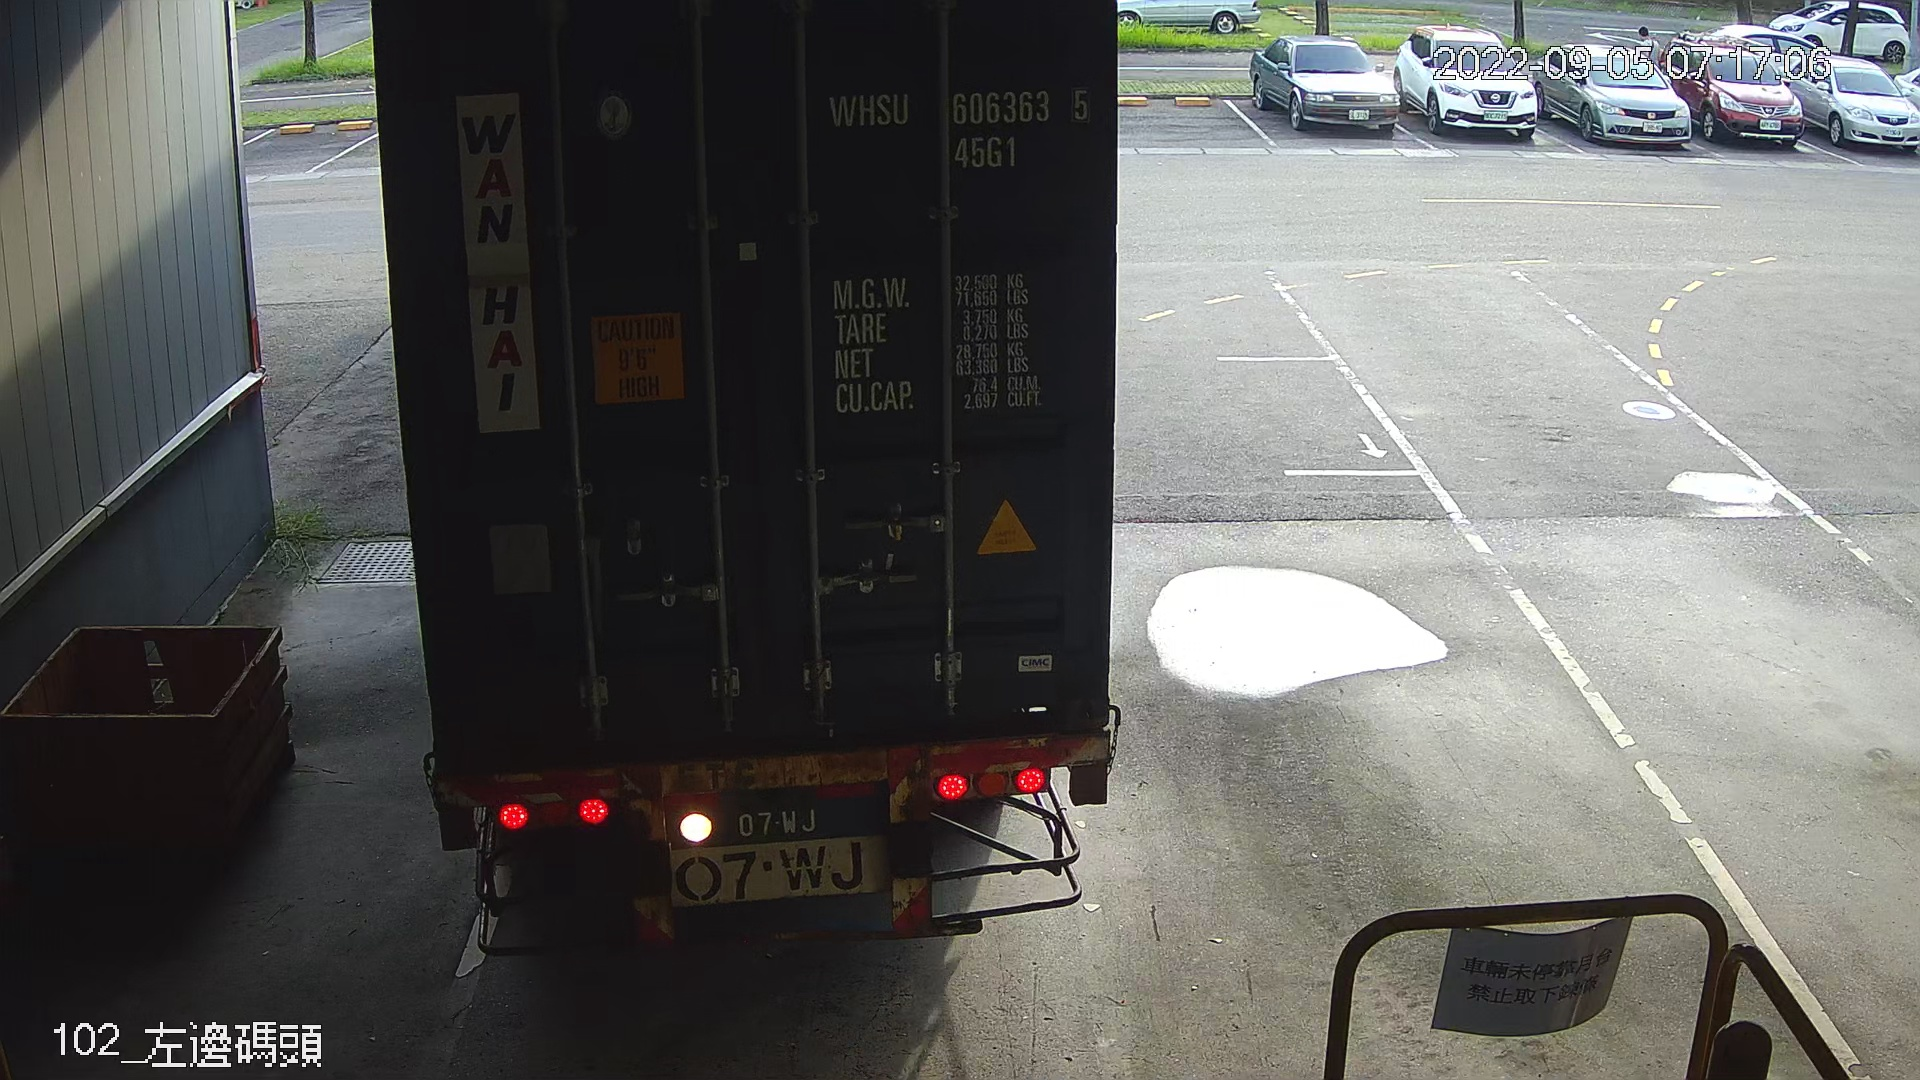container: (816, 76, 1102, 179)
